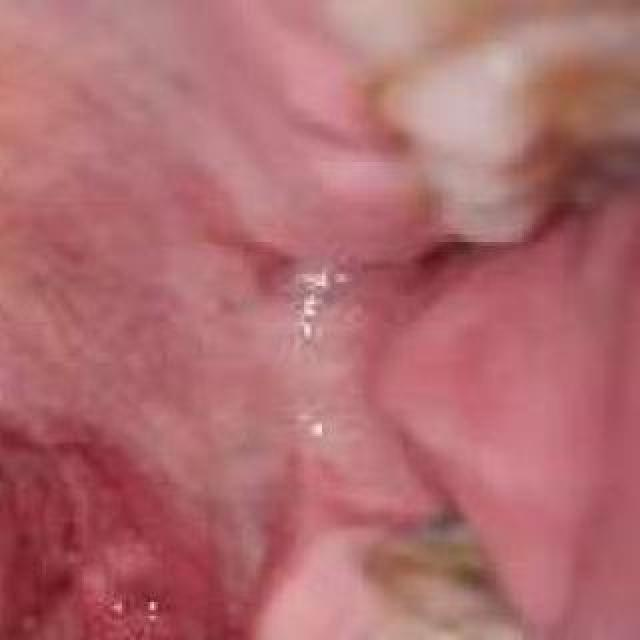cavities: (337, 485, 445, 615), (370, 506, 500, 596), (456, 542, 472, 588)
